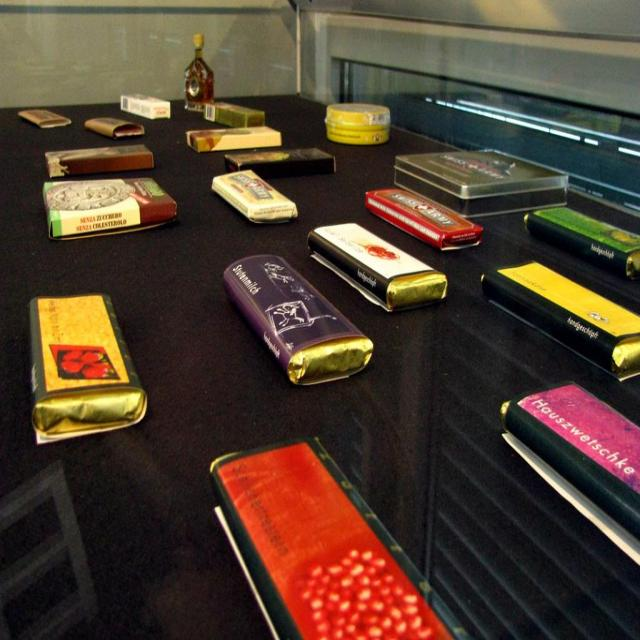table: (0, 48, 639, 640)
